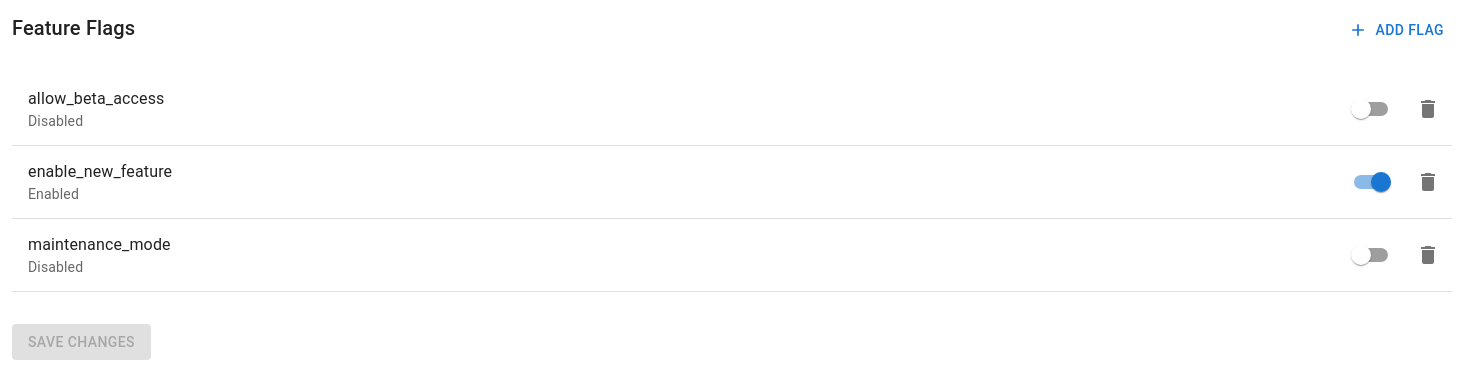
FeatureFlagsList › Toggle Functionality › should enable save button when flag is toggled
This screenshot has width=1464, height=380.
Expected: the button "Save Changes" is disabled, [12, 324, 151, 360]
What coordinates should you click on to do the following:
click the 1st checkbox
I would click on:
 (1361, 109)
Its box is [1351, 99, 1371, 119].
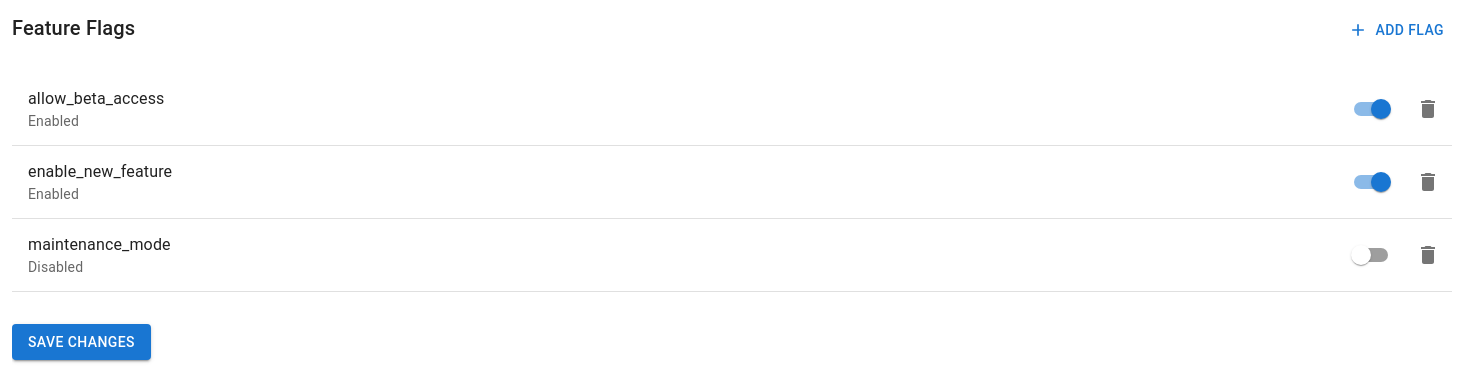
Expected: the button "Save Changes" is enabled, [12, 324, 151, 360]
